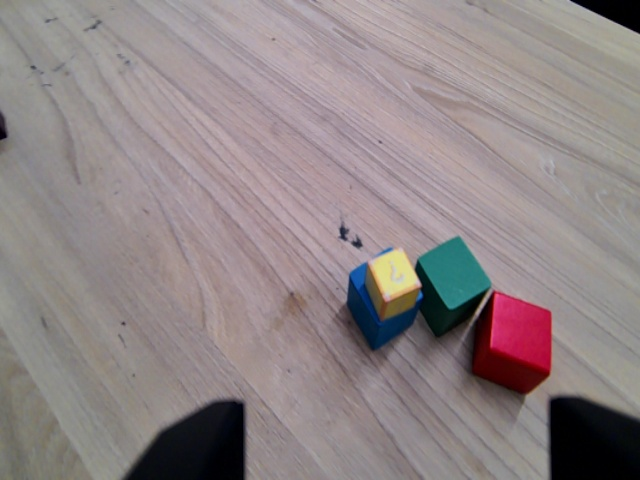lucky: (362, 242, 424, 323)
